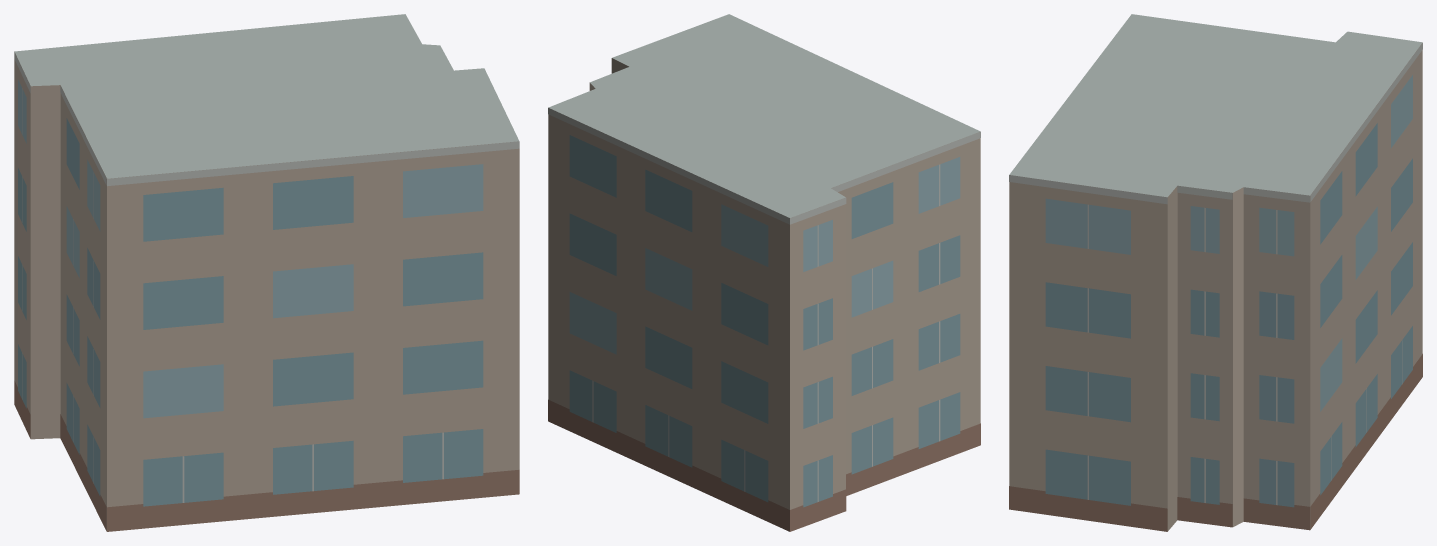
Rendered from survey-upis-32910911.glb.
The picture shows the model from 3 angles, left to right: view 1: azimuth 30°, elevation 25°; view 2: azimuth 150°, elevation 25°; view 3: azimuth 270°, elevation 25°; orthographic projection. The views are drawn at different scales.
Parts seen in each view (by area): view 1: survey-upis-32910911.tmp; view 2: survey-upis-32910911.tmp; view 3: survey-upis-32910911.tmp.
Part boxes in pixels (x1,y1,x2,y2): survey-upis-32910911.tmp: (14,14,519,531); survey-upis-32910911.tmp: (548,14,980,531); survey-upis-32910911.tmp: (1009,14,1422,531).
Bounding box in the file's own units: 13.64 × 11.6 × 13.01.
